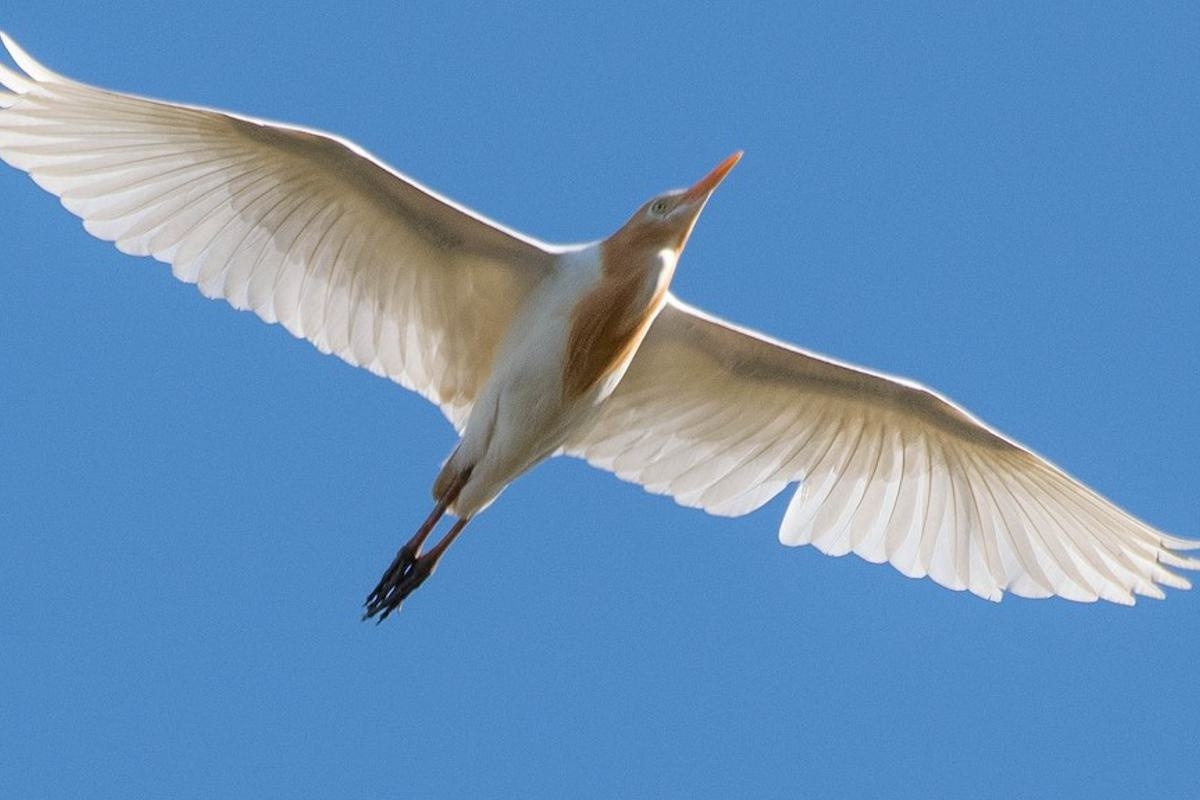egret: (1, 30, 1191, 670)
